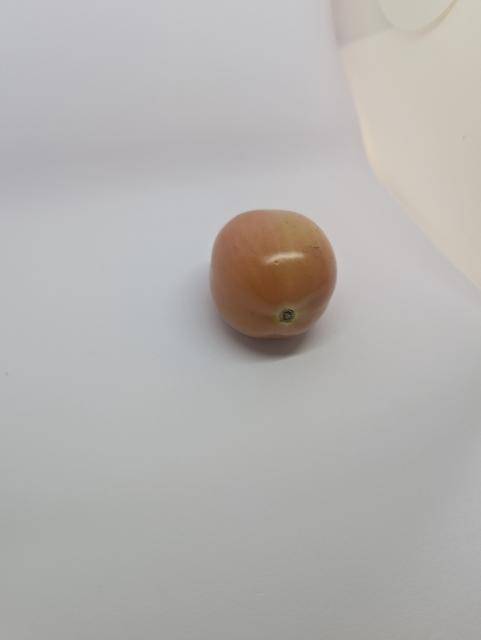turning: (208, 198, 343, 347)
